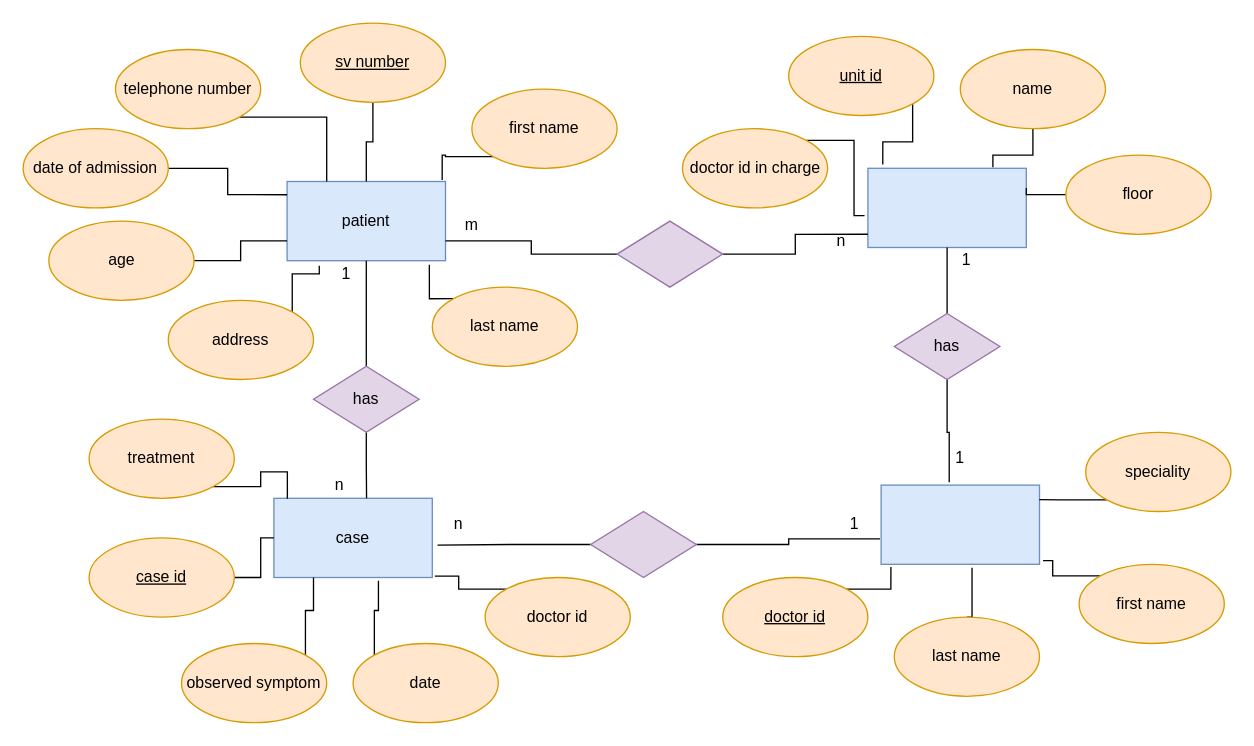
The diagram is 1254 pixels wide and 746 high, and some of its shapes have lost their labels. Each missing label, with the centre of its shape:
"decide" belongs at [642,544].
"doctor" belongs at [960,524].
"is at" belongs at [669,253].
"unit" belongs at [946,207].
